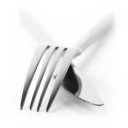Fork: (14, 13, 127, 119)
